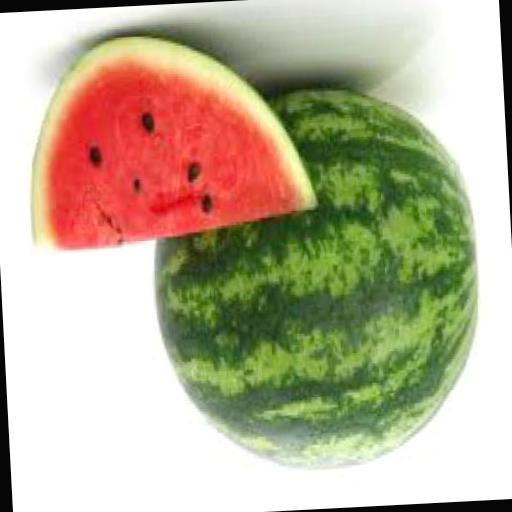biodegradable: (141, 80, 488, 481), (18, 28, 322, 258)
